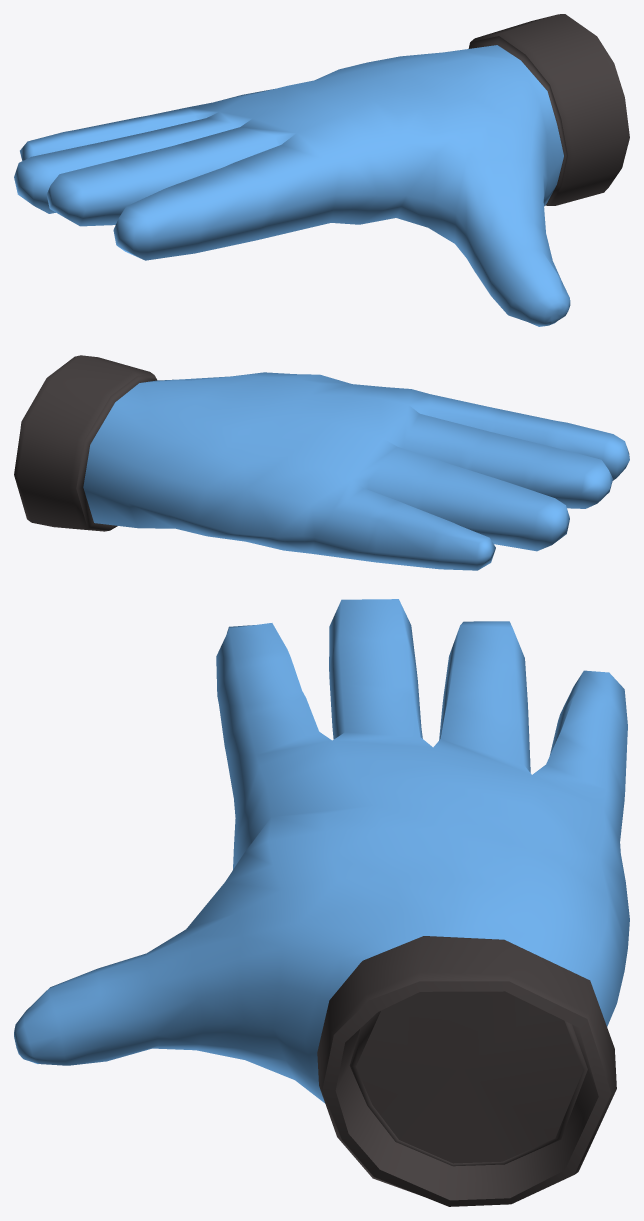
The model's file is Right_Arm_02_02.fbx.
The picture shows the model from 3 angles, top to bottom: view 1: azimuth 30°, elevation 25°; view 2: azimuth 150°, elevation 25°; view 3: azimuth 270°, elevation 25°; orthographic projection. The views are drawn at different scales.
Visible parts, largest first — view 1: Right_Arm_02_02; view 2: Right_Arm_02_02; view 3: Right_Arm_02_02.
Part boxes in pixels (x1,y1,x2,y2): Right_Arm_02_02: (14,14,629,326); Right_Arm_02_02: (14,355,629,570); Right_Arm_02_02: (14,599,629,1206).
Size of the model in its own units: 25.38 by 7.23 by 16.72.
